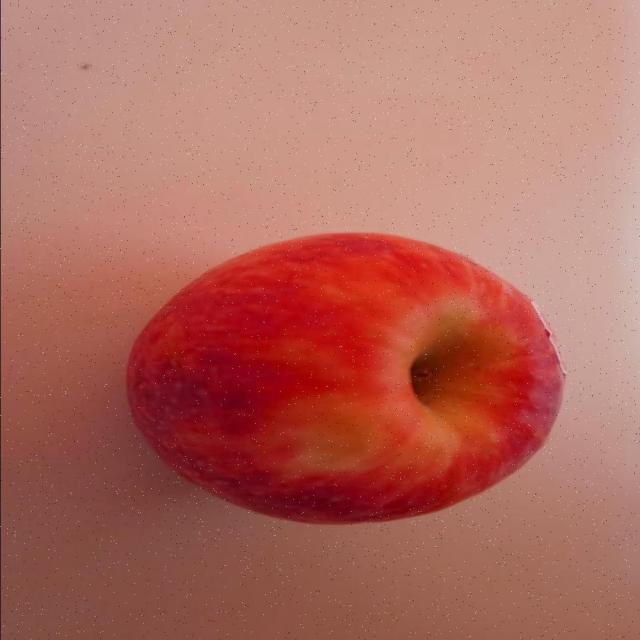Apple: (121, 232, 564, 526)
